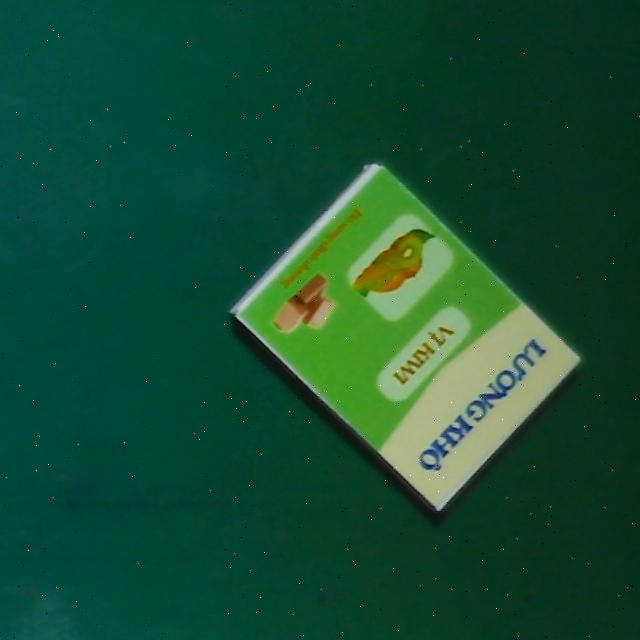kiwi: (227, 157, 587, 514)
